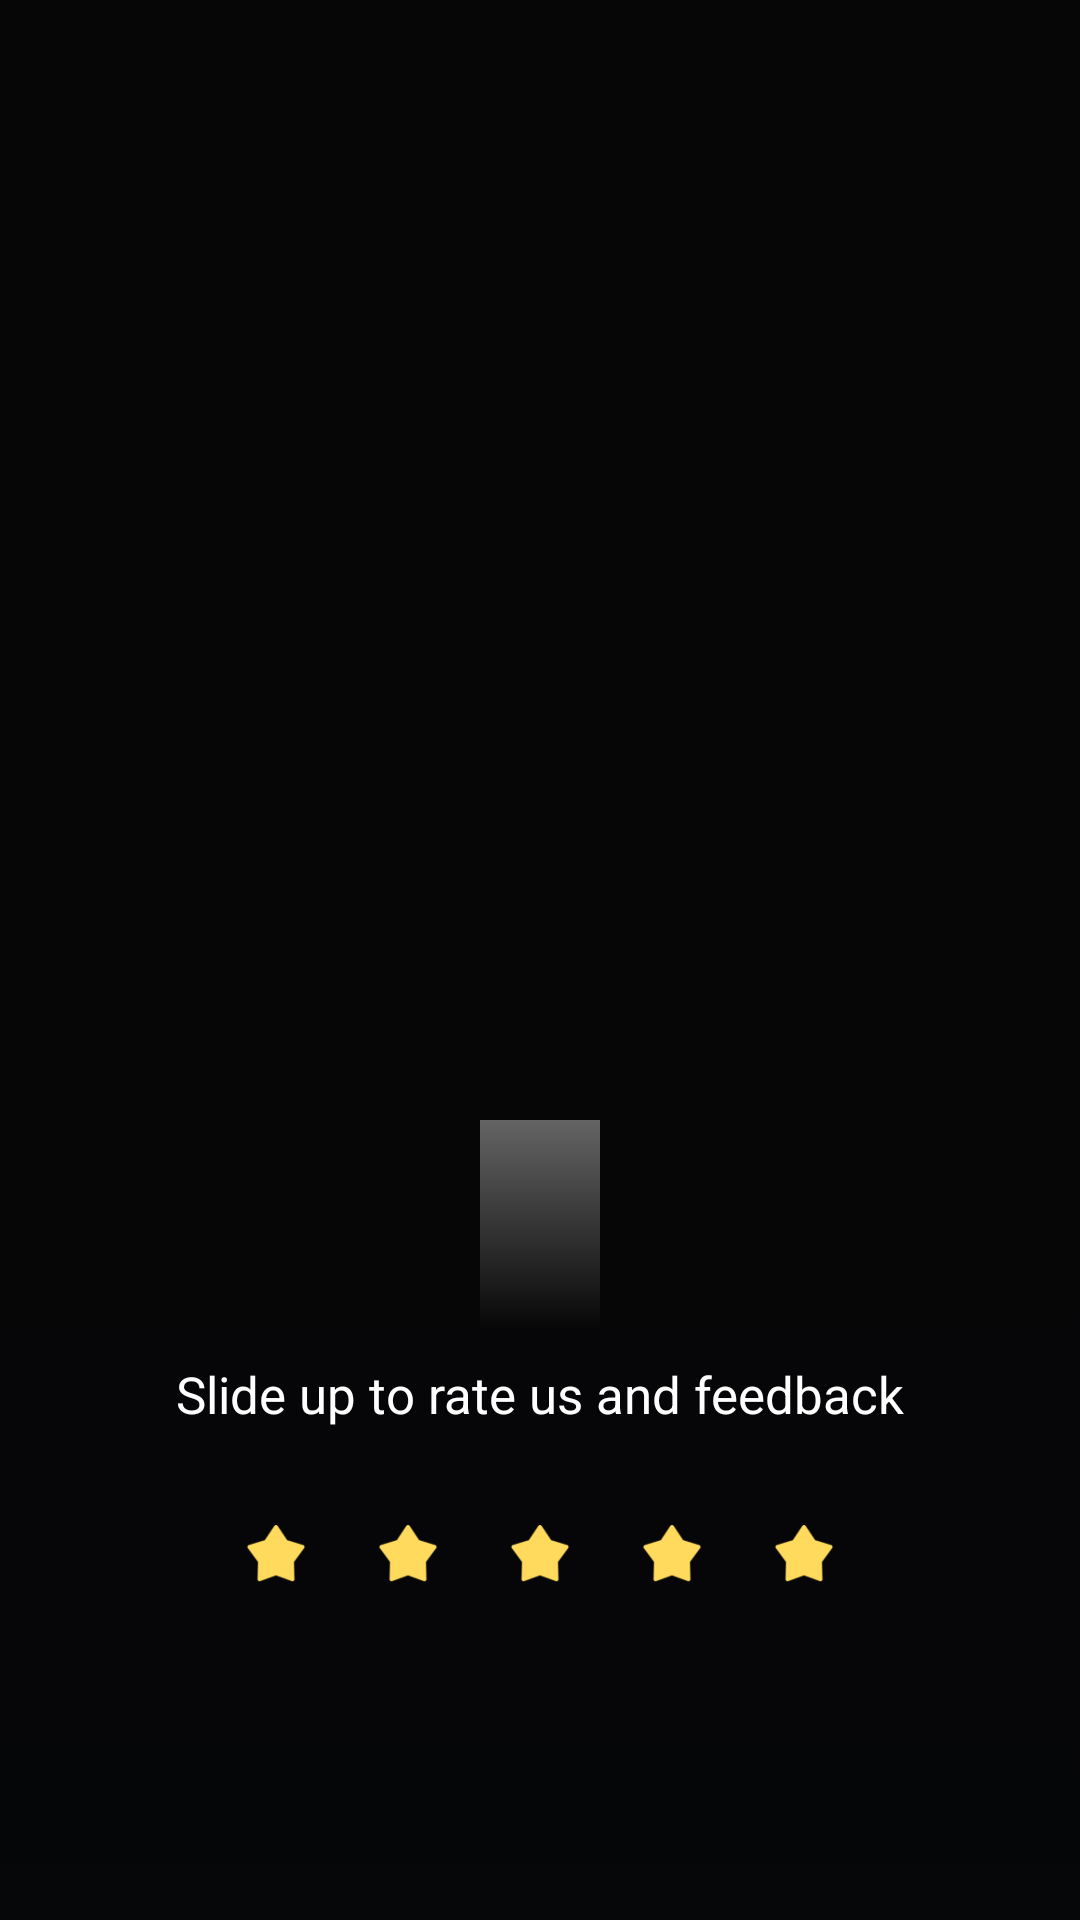

Icons on this 1080 x 1920 Android screen, each with its box as (x1, y1, x2, y2):
rating star: (247, 1525, 305, 1582), (379, 1525, 437, 1582), (511, 1525, 569, 1582), (643, 1525, 701, 1582), (775, 1525, 833, 1582)
